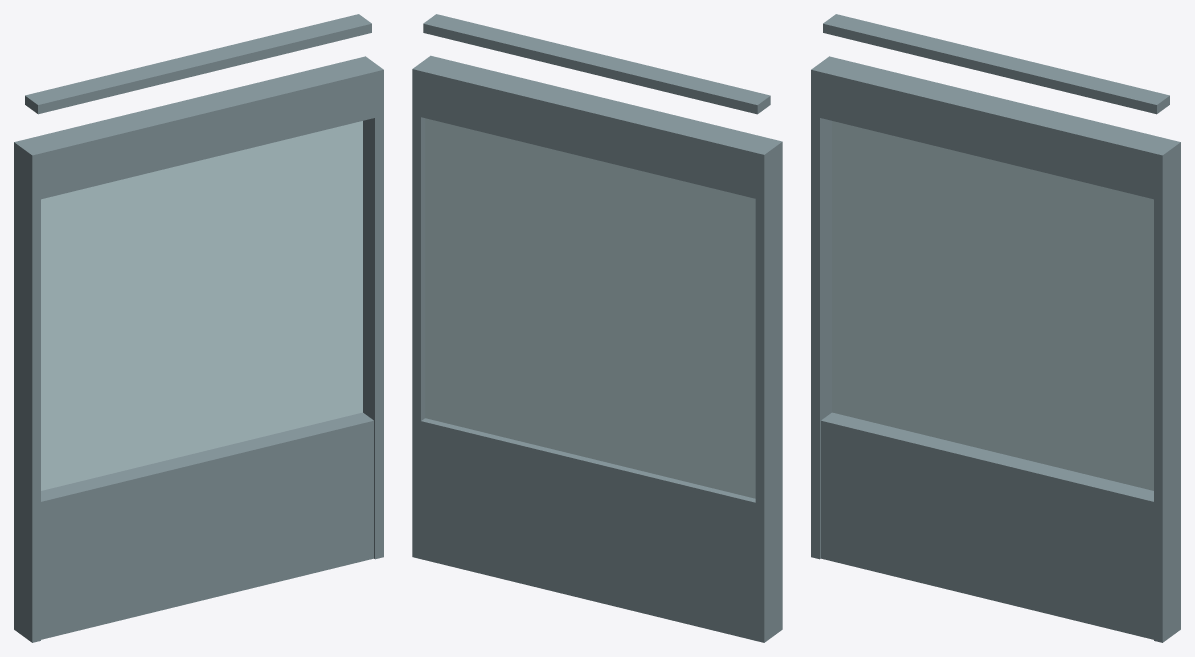
Rendered from curtain_wall_crown.glb.
3 views of the same model, side by side, from view 1: azimuth 30°, elevation 25°; view 2: azimuth 150°, elevation 25°; view 3: azimuth 330°, elevation 25° (orthographic).
Visible parts, largest first — view 1: curtain_wall_crown_frame2, curtain_wall_crown_glass; view 2: curtain_wall_crown_glass, curtain_wall_crown_frame2; view 3: curtain_wall_crown_frame2, curtain_wall_crown_glass.
Boxes of the visible parts, bbox=[...] form: curtain_wall_crown_frame2: bbox=[14, 14, 383, 642]; curtain_wall_crown_glass: bbox=[41, 121, 362, 490]; curtain_wall_crown_glass: bbox=[425, 118, 755, 498]; curtain_wall_crown_frame2: bbox=[412, 14, 782, 642]; curtain_wall_crown_frame2: bbox=[811, 14, 1180, 642]; curtain_wall_crown_glass: bbox=[832, 121, 1153, 490].
Size of the model in its own units: 2 by 2.9 by 0.18.
